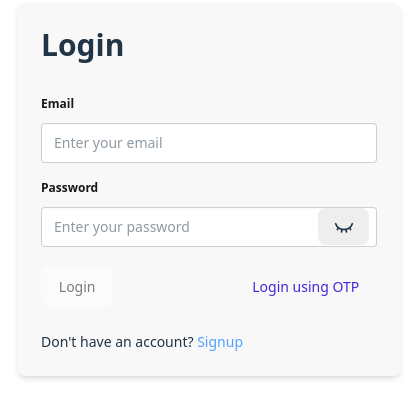
Test: Login – complete integration › OTP login: switching method shows OTP field and hides Password field
Expected: the password field labelled "Password" is shown, x1=41 y1=206 x2=377 y2=246
# Switch to OTP
Click the button "Login using OTP": (306, 286) x1=234 y1=266 x2=377 y2=306
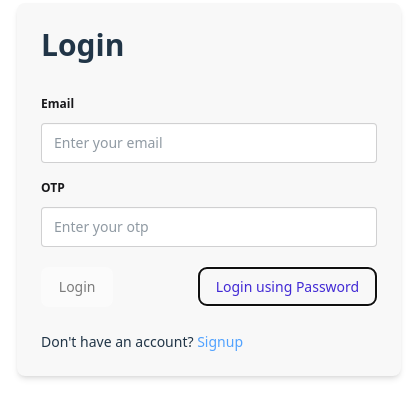
Result: the field labelled "OTP" is shown at x1=41 y1=206 x2=377 y2=246
# Switch back
Click the button "Login using Password": (287, 286) x1=198 y1=266 x2=377 y2=306
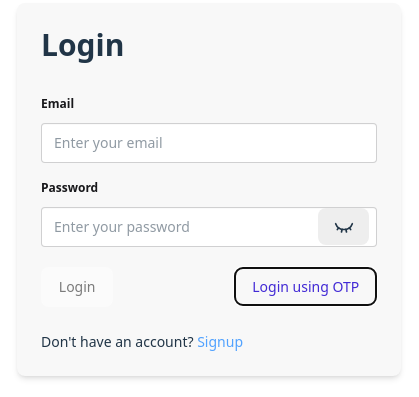
Result: the password field labelled "Password" is shown at x1=41 y1=206 x2=377 y2=246
